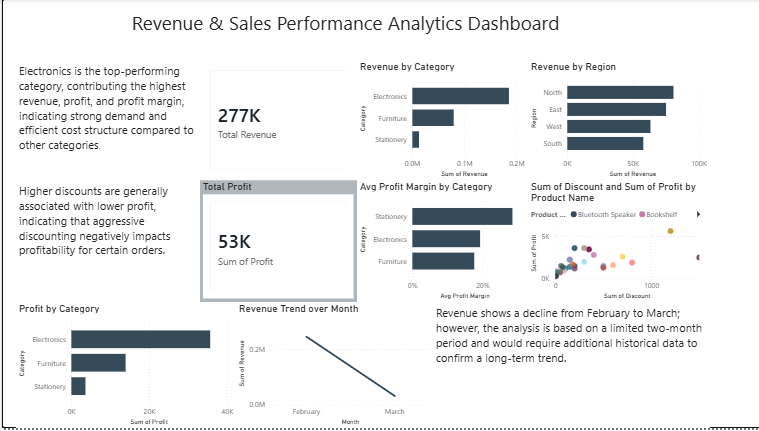

The dashboard page shown, as its layout file describes it:
{"tool":"powerbi","page":{"name":"Page 1","canvas":[1280,720],"ordinal":0},"visuals":[{"type":"clusteredBarChart","title":" Revenue by Region","fields":{"Category":["Sheet1.Region"],"Y":["Sum(Sheet1.Revenue)"]},"box":[883.6,102.5,305.7,201.6],"z":0},{"type":"cardVisual","title":"Total Profit","fields":{"Data":["Sum(Sheet1.Profit)"]},"box":[332.6,304,263.7,204.9],"z":2000},{"type":"clusteredBarChart","title":"Revenue by Category","fields":{"Category":["Sheet1.Category"],"Y":["Sum(Sheet1.Revenue)"]},"box":[596.3,102.5,287.2,201.6],"z":3000},{"type":"clusteredBarChart","title":" Profit by Category","fields":{"Category":["Sheet1.Category"],"Y":["Sum(Sheet1.Profit)"]},"box":[23.5,509,369.6,211.7],"z":4000},{"type":"clusteredBarChart","title":"Avg Profit Margin by Category","fields":{"Category":["Sheet1.Category"],"Y":["Sales.Avg Profit Margin"]},"box":[596.3,304,287.2,204.9],"z":5000},{"type":"textbox","box":[23.5,102.5,309.1,201.6],"z":6000},{"type":"scatterChart","fields":{"X":["Sum(Sheet1.Discount)"],"Y":["Sum(Sheet1.Profit)"],"Series":["Sheet1.Product Name"]},"box":[883.6,304,305.7,204.9],"z":7000},{"type":"textbox","box":[23.5,304,309.1,204.9],"z":8000},{"type":"lineChart","title":" Revenue Trend over Month","fields":{"Category":["Sales.Order Date.Variation.Date Hierarchy.Month"],"Y":["Sum(Sales.Revenue)"]},"box":[393.1,509,330.9,211.7],"z":9000},{"type":"textbox","box":[724,509,465.3,211.7],"z":10000},{"type":"textbox","box":[178.1,11.8,866.8,70.6],"z":11000},{"type":"cardVisual","fields":{"Data":["Sales.Total Revenue"]},"box":[332.6,102.5,263.7,201.6],"z":11001}]}

Visuals, with their boxes in screenshot pixels (x1, y1, x2, y2), scaled from the page's 1280x720 canvas onto the 759x431 screenshot:
" Revenue by Region" clusteredBarChart: l=524, t=61, r=705, b=182
"Total Profit" cardVisual: l=197, t=182, r=354, b=305
"Revenue by Category" clusteredBarChart: l=354, t=61, r=524, b=182
" Profit by Category" clusteredBarChart: l=14, t=305, r=233, b=430
"Avg Profit Margin by Category" clusteredBarChart: l=354, t=182, r=524, b=305
textbox: l=14, t=61, r=197, b=182
scatterChart - Sum(Sheet1.Discount) x Sum(Sheet1.Profit): l=524, t=182, r=705, b=305
textbox: l=14, t=182, r=197, b=305
" Revenue Trend over Month" lineChart: l=233, t=305, r=429, b=430
textbox: l=429, t=305, r=705, b=430
textbox: l=106, t=7, r=620, b=49
cardVisual - Sales.Total Revenue: l=197, t=61, r=354, b=182
